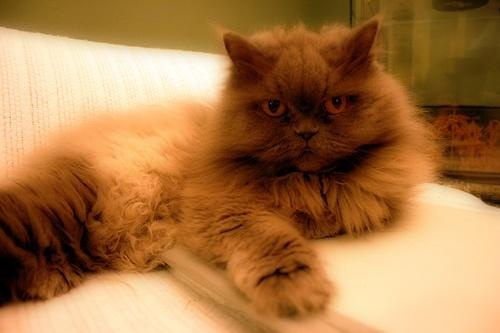cat: (1, 7, 443, 326)
